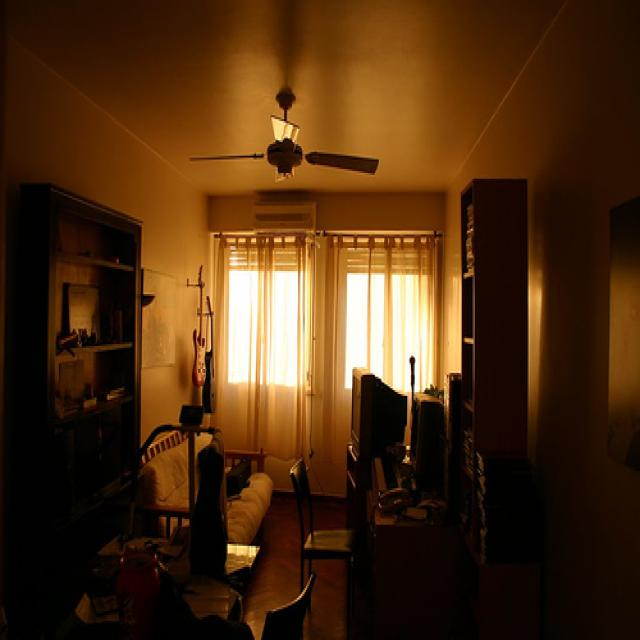Table: (0, 201, 165, 574), (362, 446, 473, 640), (64, 553, 249, 640), (473, 448, 544, 640)
chair: (146, 415, 302, 541), (291, 434, 353, 590), (246, 553, 326, 640)
